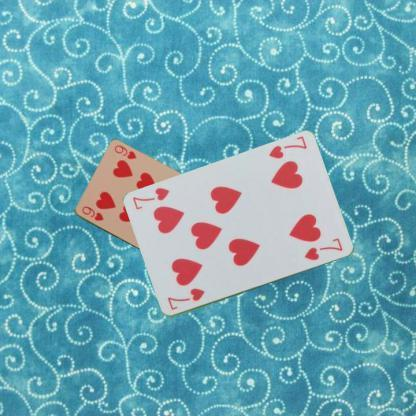7h: (164, 285, 206, 312), (266, 134, 308, 160)
9h: (80, 204, 104, 222)
